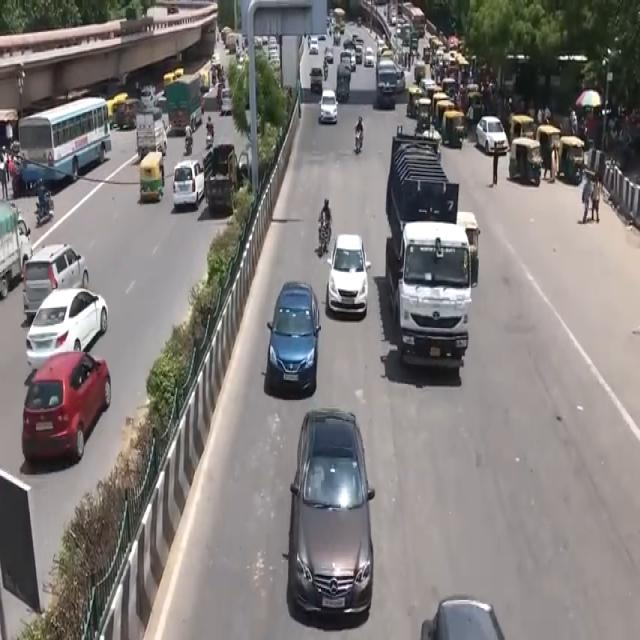BUS: (19, 98, 113, 193)
TRUCK: (388, 138, 472, 384), (0, 201, 27, 303)
